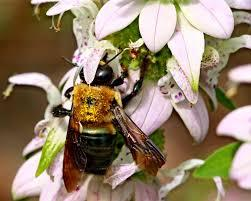Xylocopa: (45, 55, 167, 190)
